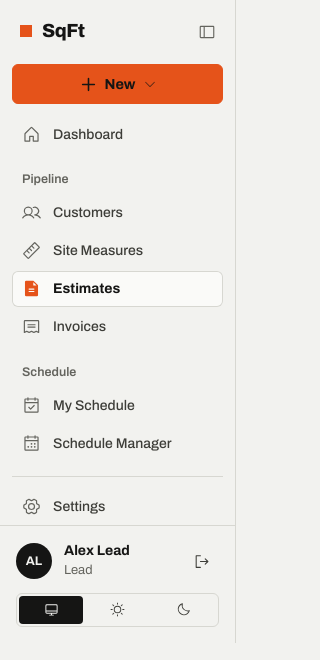
Scenario: SideNav › collapsing hides group labels and persists the state
Click the button named "collapse sidebar": click(207, 32) [191,16,223,48]
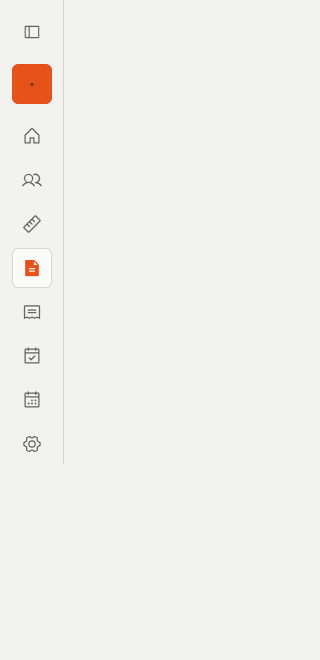
Now the text "Pipeline" is gone
